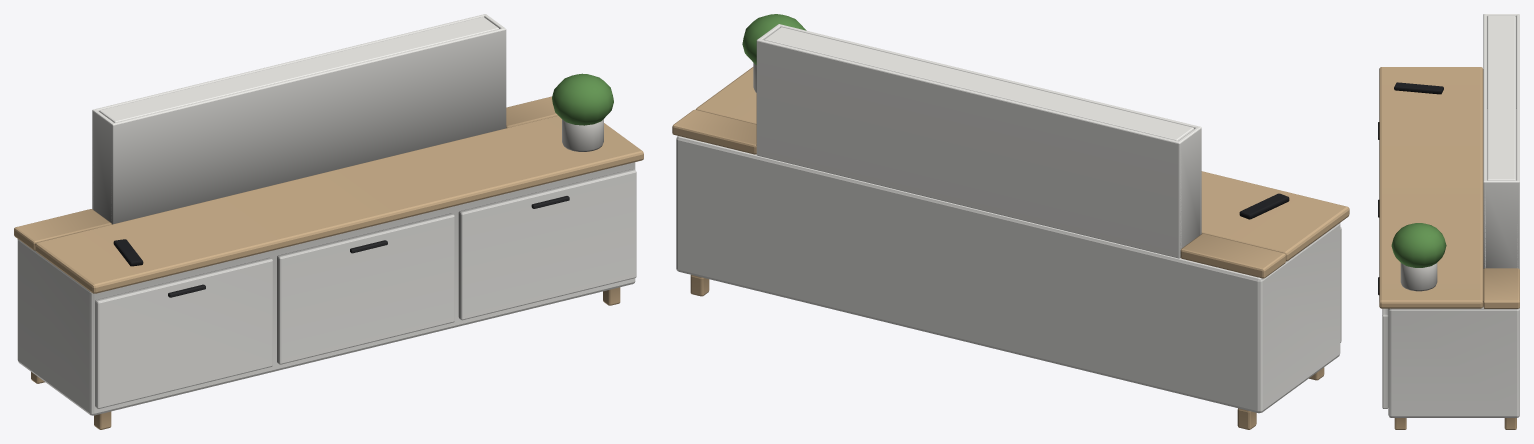
File: tvStandLow.glb
3 renders of one model, left to right at view 1: azimuth 30°, elevation 25°; view 2: azimuth 150°, elevation 25°; view 3: azimuth 270°, elevation 25°, orthographic. The views are drawn at different scales.
Parts seen in each view (by area): view 1: tvStandLow, tv; view 2: tvStandLow, tv; view 3: tvStandLow, tv.
Part boxes in pixels (box(x1,y1,x2,y2)): tvStandLow: box(14, 14, 643, 429); tv: box(99, 17, 498, 122); tvStandLow: box(672, 14, 1349, 429); tv: box(764, 27, 1193, 140); tvStandLow: box(1378, 14, 1519, 429); tv: box(1487, 16, 1515, 180).
Size of the model in its own units: 1.82 by 0.8 by 0.464.
